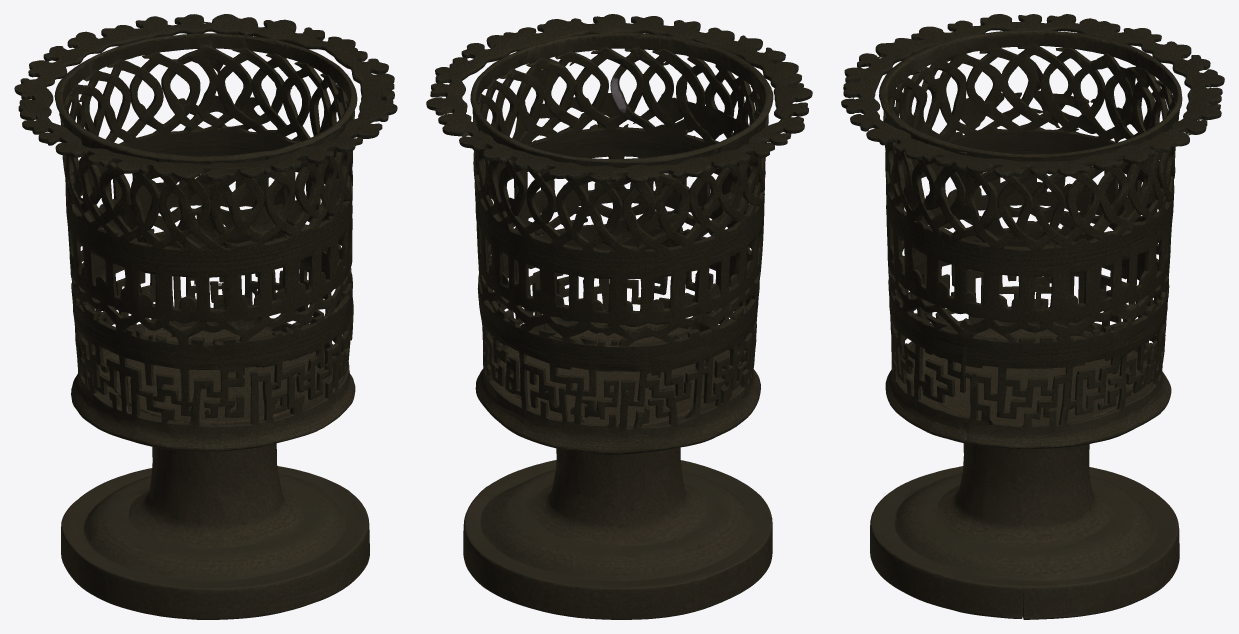
The model's file is Tempat_Gelas.glb.
The picture shows the model from 3 angles, left to right: view 1: azimuth 30°, elevation 25°; view 2: azimuth 150°, elevation 25°; view 3: azimuth 270°, elevation 25°; orthographic projection.
Bounding box in the file's own units: 1.43 × 1.9 × 1.43.
Materials: 1 (1 with a texture image).
